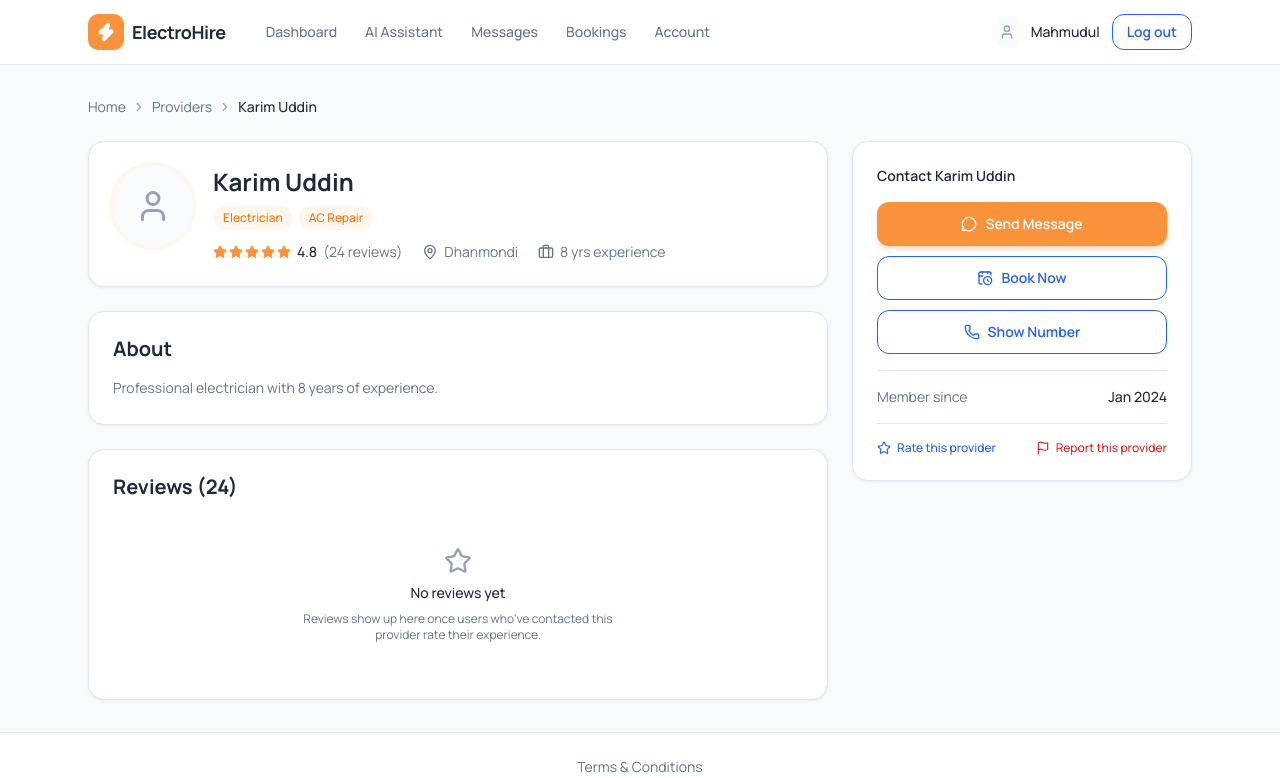
it: ProviderDetailPage › shows Rate this provider as a real link once eligibility resolves true
Expected: the heading "Karim Uddin" is shown, top-left (213, 165), bottom-right (354, 198)
Click the link "Rate this provider". click: click(937, 448)
box: top-left (877, 440), bottom-right (996, 456)
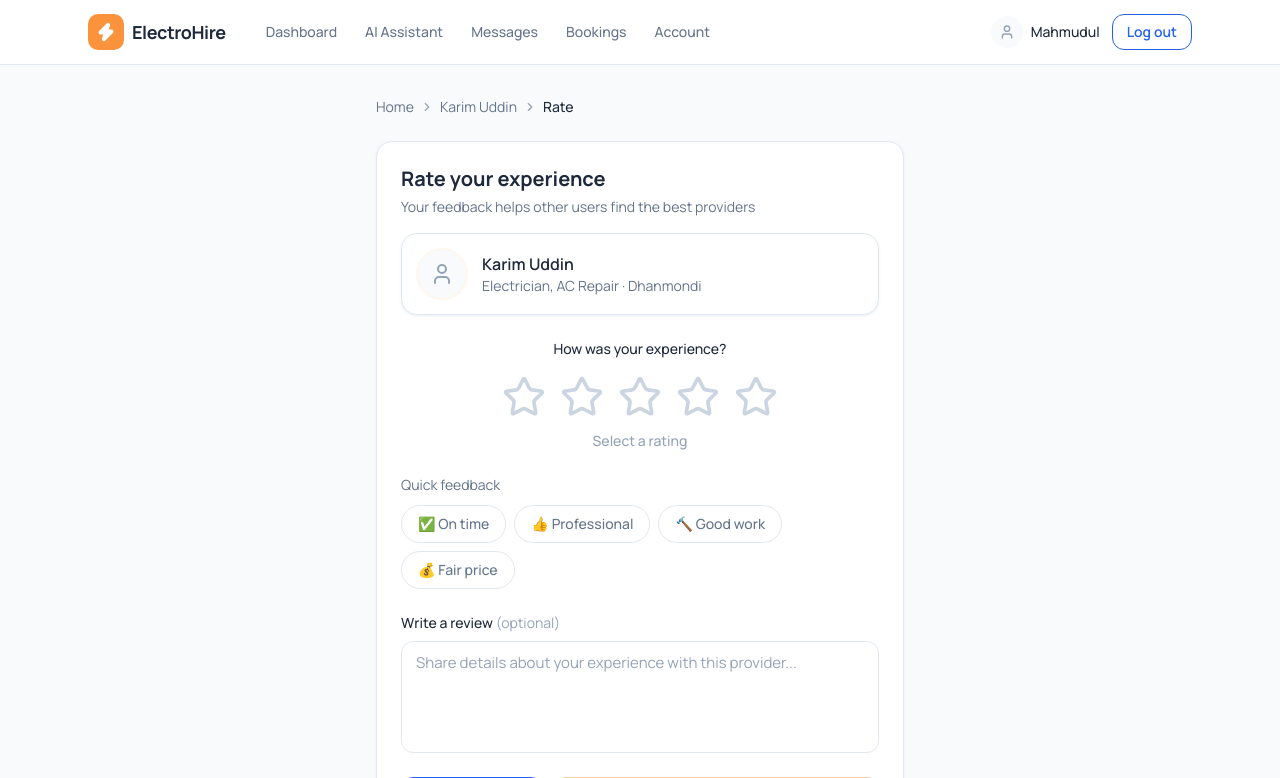
Result: the heading "Rate your experience" is shown at top-left (401, 165), bottom-right (606, 192)
